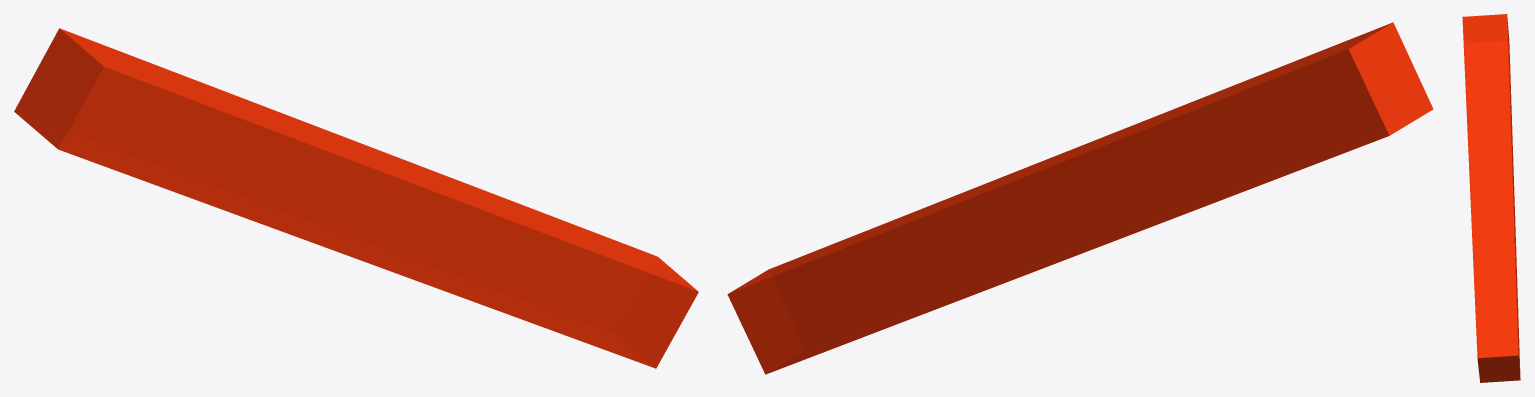
The model's file is Event_420094457_EBrechit_16.fbx.
3 renders of one model, left to right at view 1: azimuth 30°, elevation 25°; view 2: azimuth 150°, elevation 25°; view 3: azimuth 270°, elevation 25°, orthographic. The views are drawn at different scales.
Parts seen in each view (by area): view 1: Model; view 2: Model; view 3: Model.
Part boxes in pixels (x1,y1,x2,y2): Model: (14,28,698,368); Model: (727,22,1433,374); Model: (1462,14,1520,382).
Size of the model in its own units: 0.5152 by 0.3467 by 0.0794.
